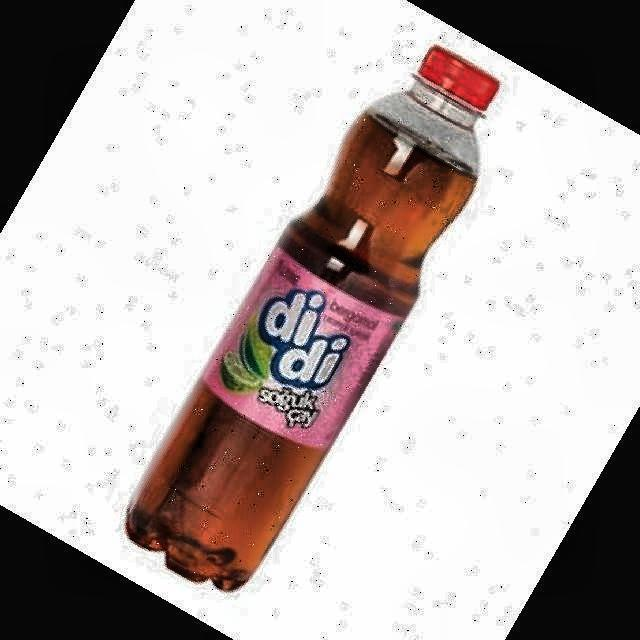plastic: (126, 46, 499, 591)
